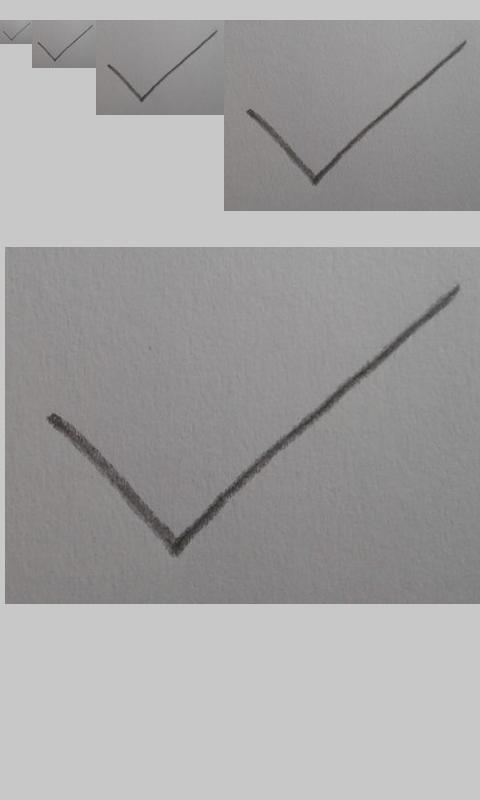check_box: (47, 286, 458, 559), (249, 41, 465, 185), (107, 30, 217, 102), (38, 25, 93, 61), (3, 23, 30, 41)
